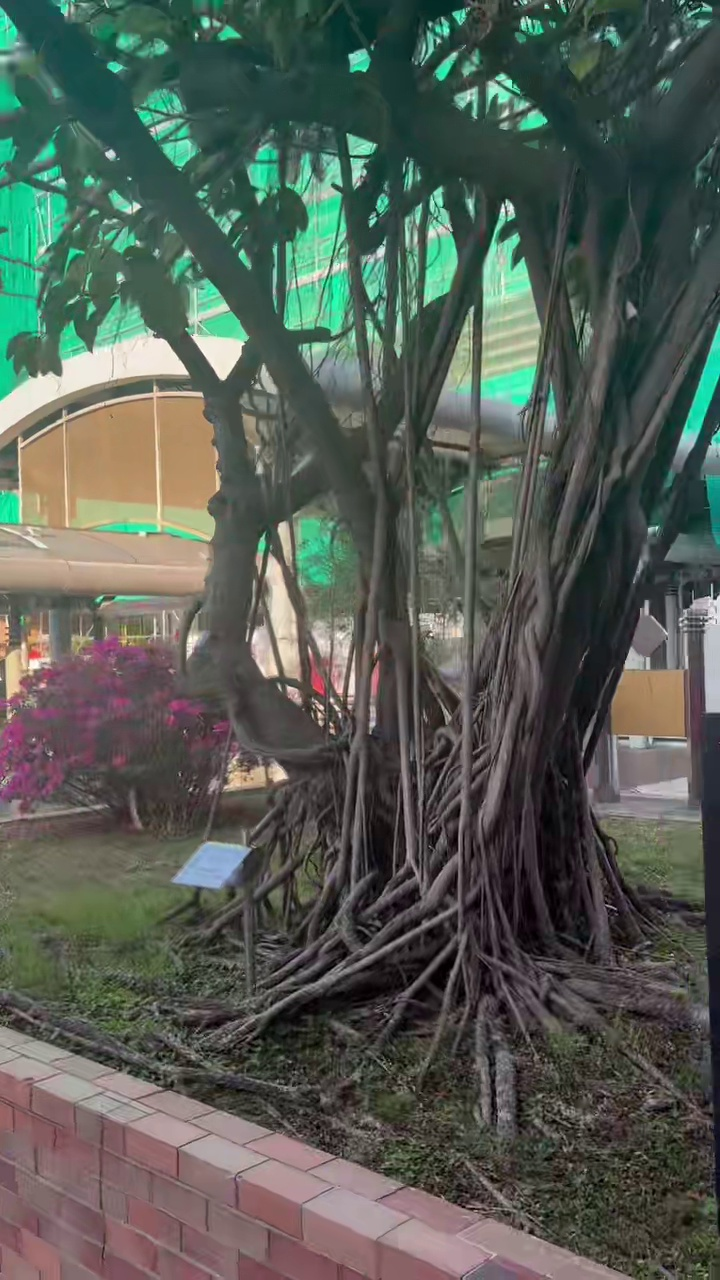Ficus elastica: (0, 0, 719, 1068)
